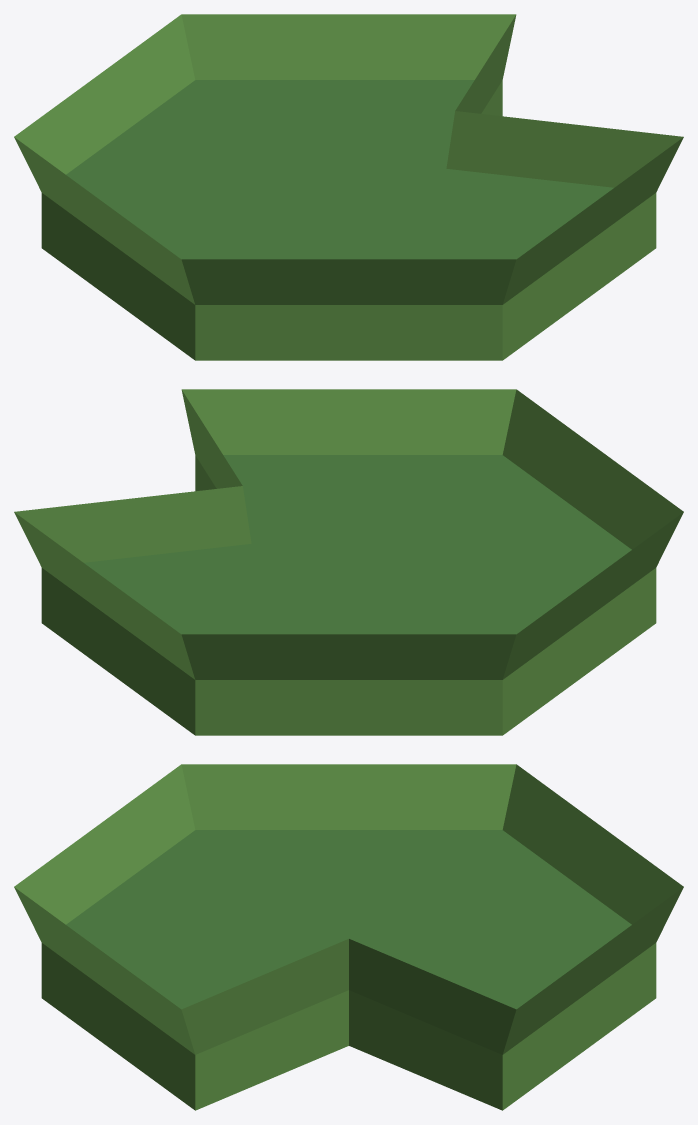
File: lily-1.glb
The picture shows the model from 3 angles, top to bottom: view 1: azimuth 30°, elevation 25°; view 2: azimuth 150°, elevation 25°; view 3: azimuth 270°, elevation 25°; orthographic projection.
Visible parts, largest first — view 1: lily_small; view 2: lily_small; view 3: lily_small.
Part boxes in pixels (box(x1,y1,x2,y2)): lily_small: box(14, 14, 683, 360); lily_small: box(14, 389, 683, 735); lily_small: box(14, 764, 683, 1110).
Size of the model in its own units: 0.1888 by 0.04 by 0.218.
